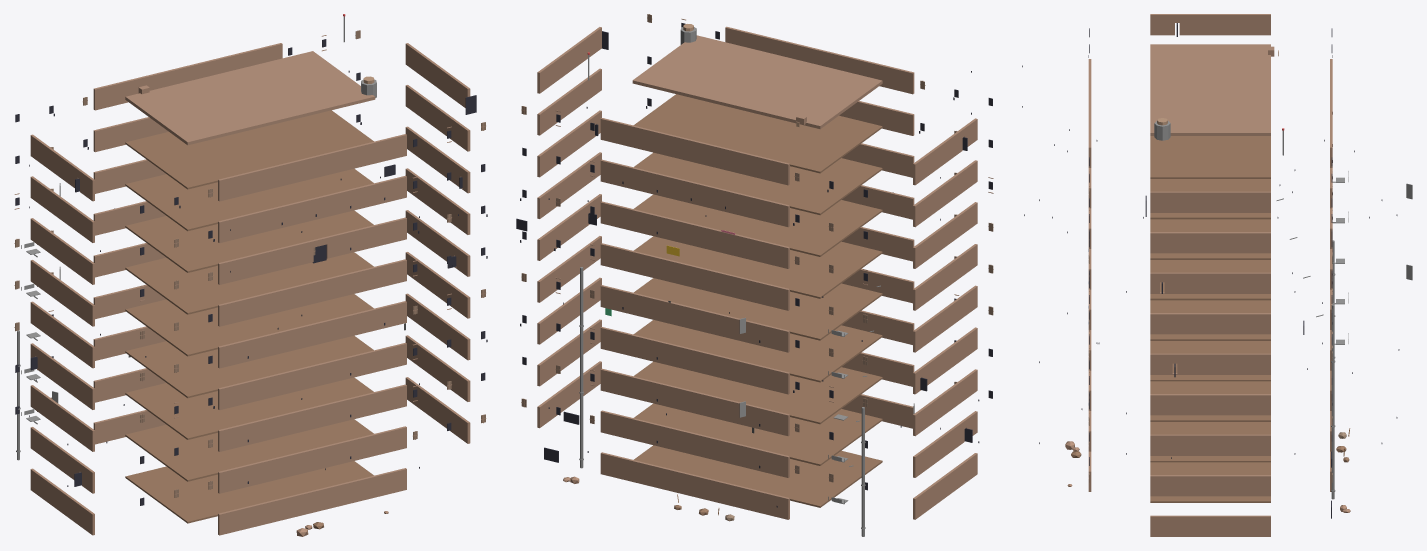
Rendered from building_top_center.glb.
3 renders of one model, left to right at view 1: azimuth 30°, elevation 25°; view 2: azimuth 150°, elevation 25°; view 3: azimuth 270°, elevation 25°, orthographic. The views are drawn at different scales.
Visible parts, largest first — view 1: BuildingMesh; view 2: BuildingMesh; view 3: BuildingMesh.
Part boxes in pixels (box(x1,y1,x2,y2)): BuildingMesh: box(14, 14, 487, 536); BuildingMesh: box(516, 14, 993, 536); BuildingMesh: box(1022, 14, 1412, 536).
Size of the model in its own units: 10.03 by 9.7 by 8.74.
